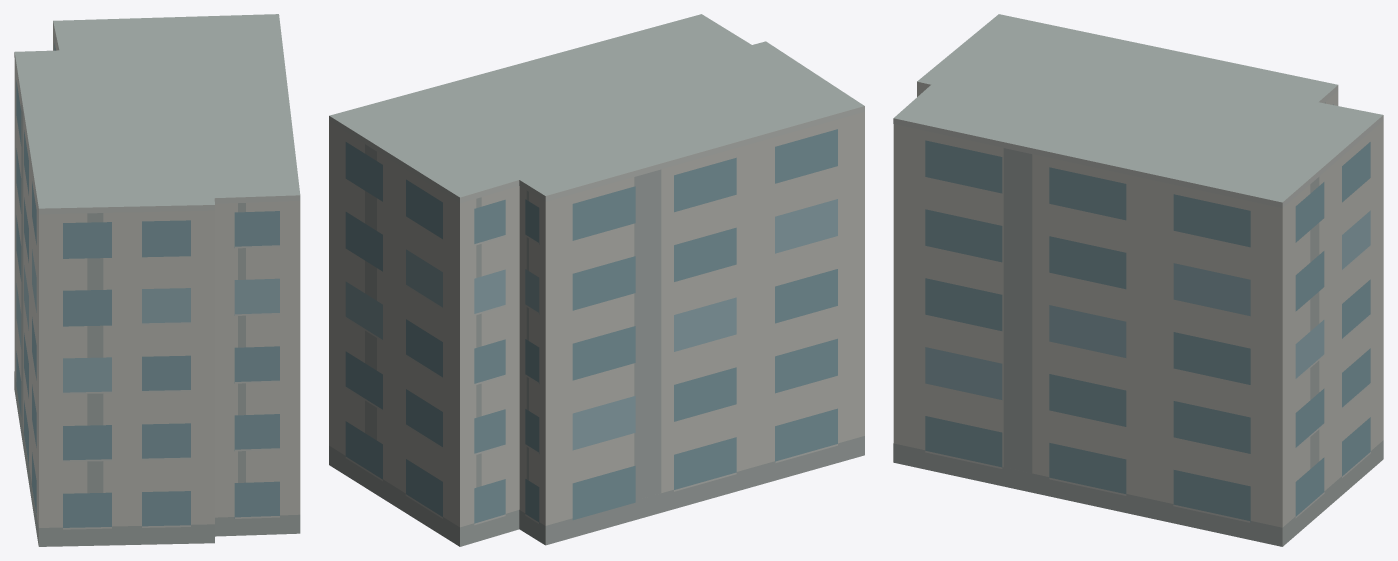
The model's file is survey-upis-32611605.glb.
The picture shows the model from 3 angles, left to right: view 1: azimuth 30°, elevation 25°; view 2: azimuth 150°, elevation 25°; view 3: azimuth 270°, elevation 25°; orthographic projection. The views are drawn at different scales.
Visible parts, largest first — view 1: survey-upis-32611605.tmp; view 2: survey-upis-32611605.tmp; view 3: survey-upis-32611605.tmp.
Part boxes in pixels (box(x1,y1,x2,y2)): survey-upis-32611605.tmp: box(14, 14, 300, 546); survey-upis-32611605.tmp: box(329, 14, 864, 546); survey-upis-32611605.tmp: box(893, 14, 1383, 546).
Bounding box in the file's own units: 16.74 × 14.25 × 18.39.
